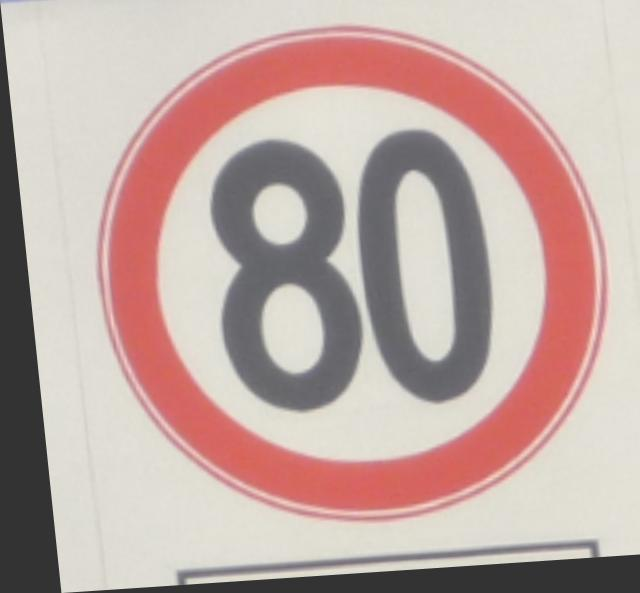limit80: (59, 8, 631, 546)
